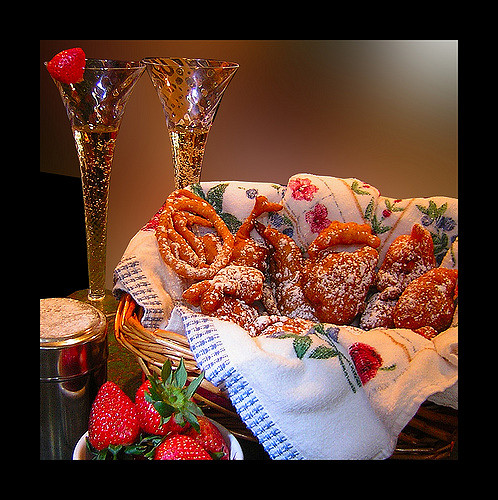glass of water: (66, 64, 117, 312)
